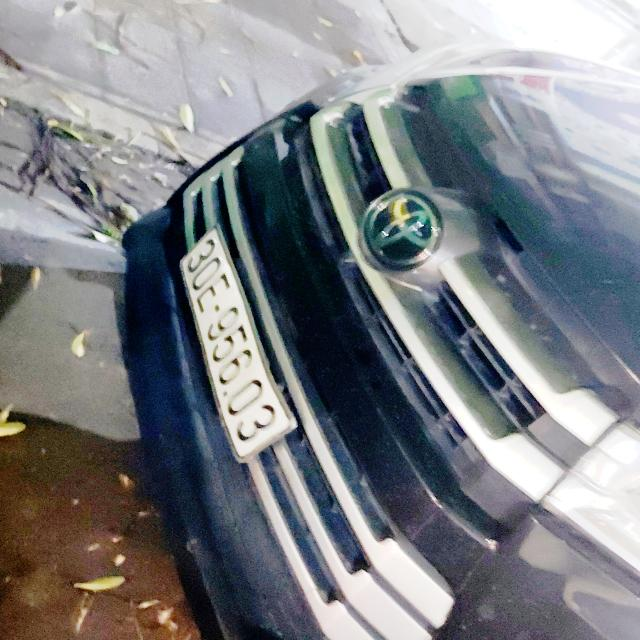license_plate: (164, 213, 309, 477)
